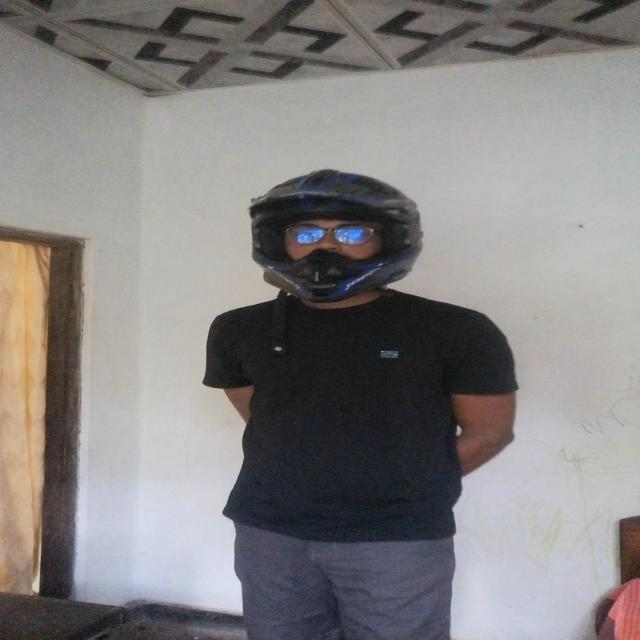Helmet_Wearer: (245, 164, 427, 320)
Person: (208, 171, 522, 640)
